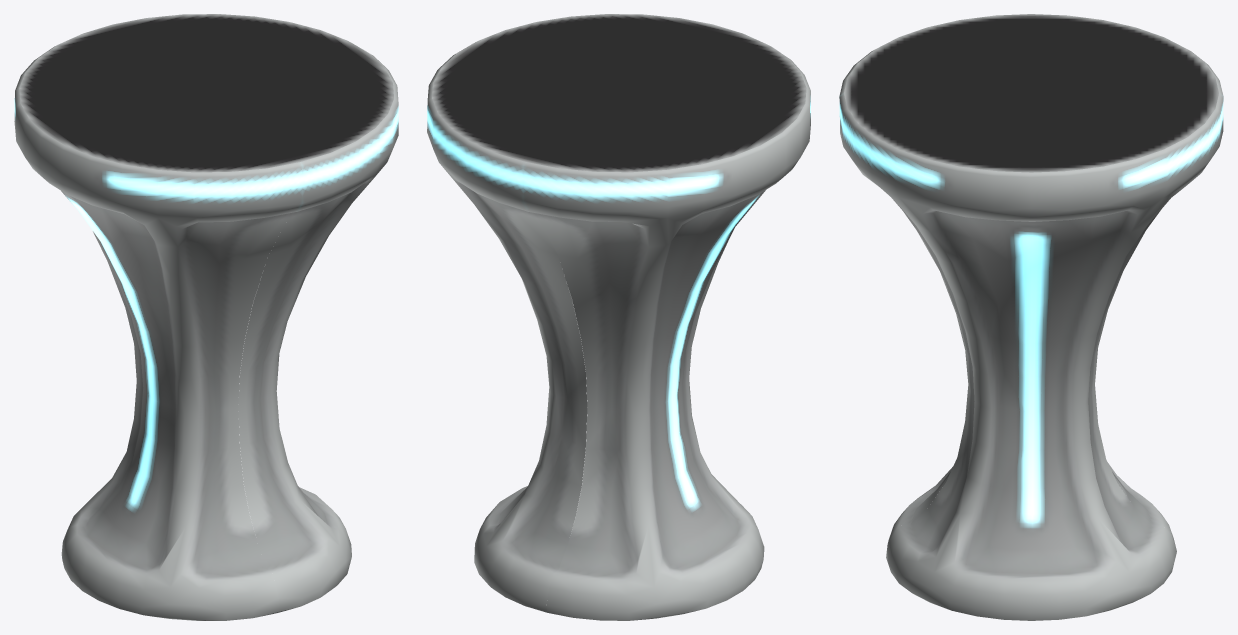
The model's file is table_round_b.glb.
3 renders of one model, left to right at view 1: azimuth 30°, elevation 25°; view 2: azimuth 150°, elevation 25°; view 3: azimuth 270°, elevation 25°, orthographic.
Visible parts, largest first — view 1: table_round; view 2: table_round; view 3: table_round.
Boxes of the visible parts, x1=… form: table_round: x1=14, y1=14, x2=398, y2=620; table_round: x1=427, y1=14, x2=810, y2=620; table_round: x1=839, y1=14, x2=1223, y2=620.
Bounding box in the file's own units: 0.8222 × 1.1 × 0.8202.
1 material, 1 textured.
